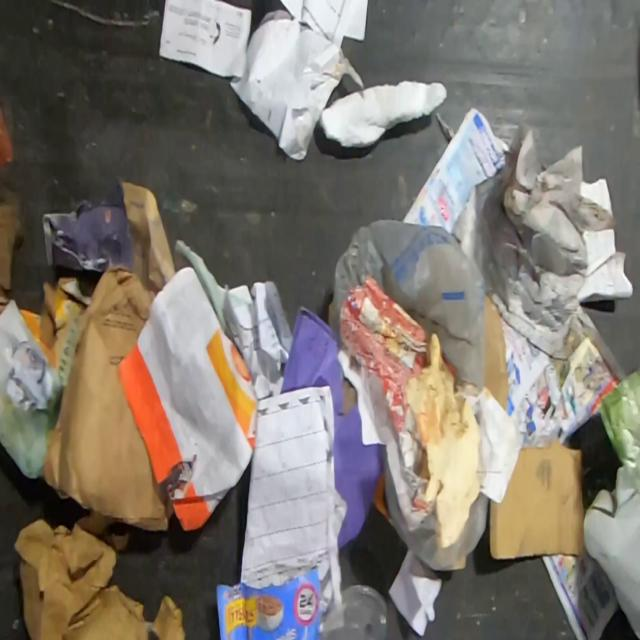cardboard: (488, 437, 584, 561), (18, 276, 90, 384), (0, 200, 24, 319), (485, 294, 507, 414)
rigid_plastic: (316, 583, 390, 640)
soft_plastic: (331, 218, 486, 394)
